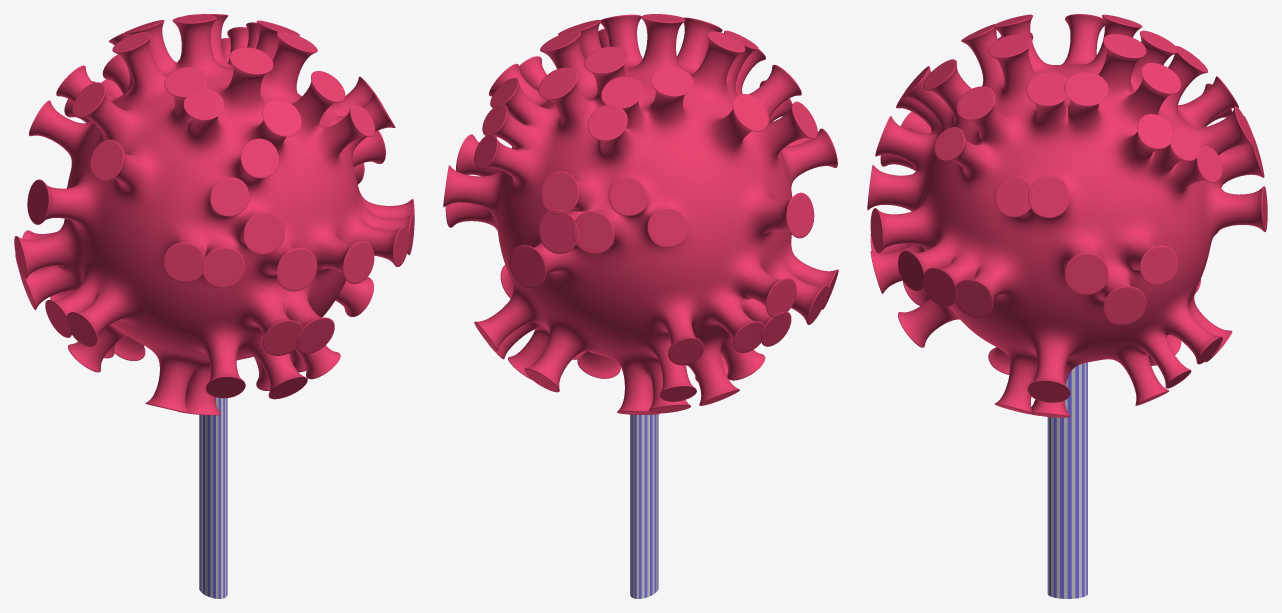
Rendered from coronavirus.fbx.
The picture shows the model from 3 angles, left to right: view 1: azimuth 30°, elevation 25°; view 2: azimuth 150°, elevation 25°; view 3: azimuth 270°, elevation 25°; orthographic projection.
Visible parts, largest first — view 1: Cube, Cylinder; view 2: Cube, Cylinder; view 3: Cube, Cylinder.
Boxes of the visible parts, bbox=[...] form: Cube: bbox=[14, 14, 414, 415]; Cylinder: bbox=[199, 397, 227, 598]; Cube: bbox=[443, 14, 838, 414]; Cylinder: bbox=[630, 414, 658, 598]; Cube: bbox=[867, 14, 1267, 417]; Cylinder: bbox=[1047, 362, 1087, 598].
Size of the model in its own units: 395 by 612 by 398.
